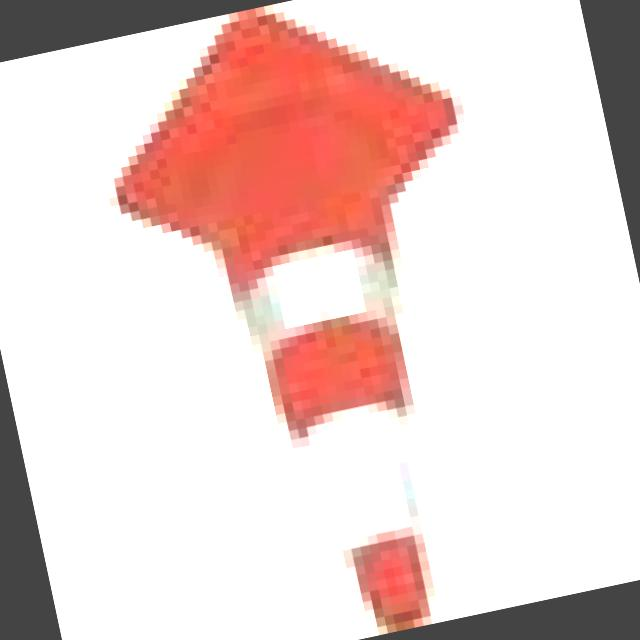cone: (88, 0, 562, 640)
